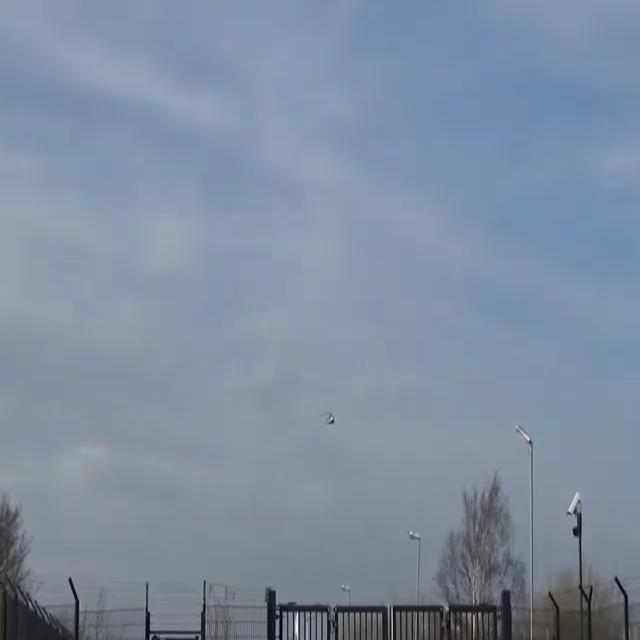Helicopter: (320, 403, 342, 432)
